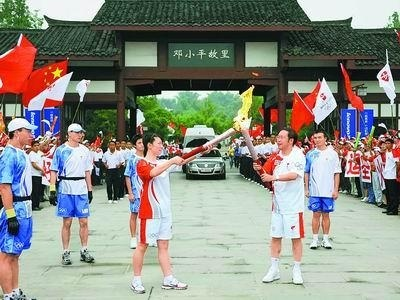fire: (234, 85, 253, 128)
